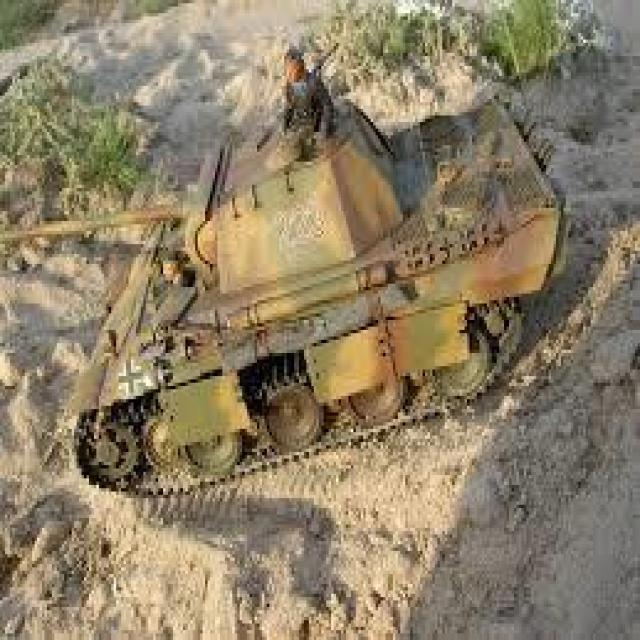MIL_MBT: (63, 61, 565, 496)
